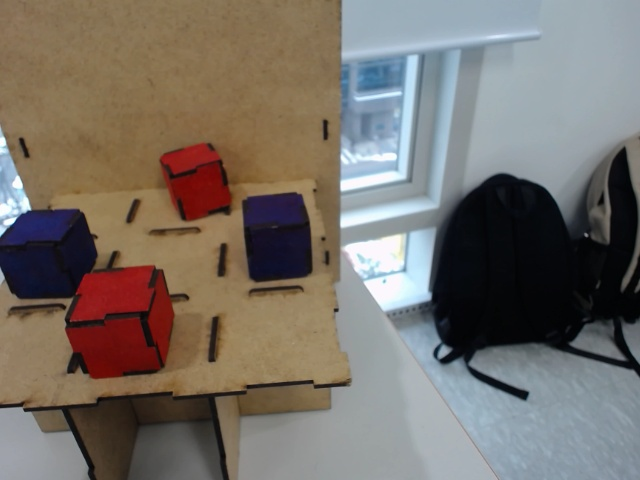blue: (1, 207, 98, 298), (242, 193, 315, 281)
red: (63, 264, 176, 379), (160, 144, 232, 223)
